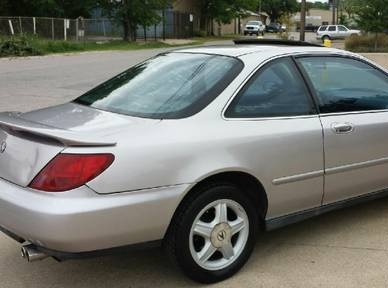acura: (1, 41, 388, 284)
